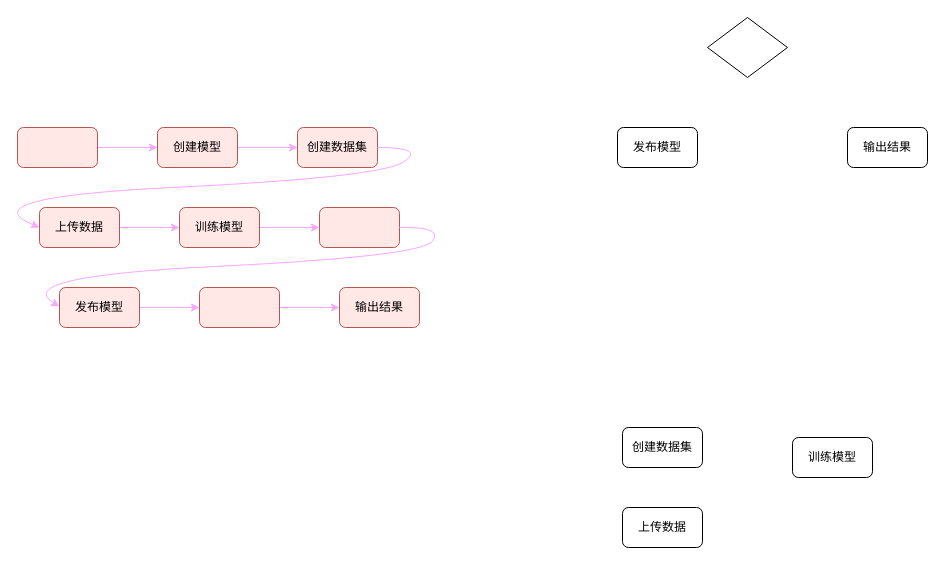
The diagram is 946 pixels wide and 565 high, and some of its shapes have lost their labels. Each missing label, with the centre of its shape:
数据集是 否存在: (x=747, y=47)
校验模型: (x=359, y=227)
调用模型: (x=239, y=307)
选择模型: (x=57, y=147)
